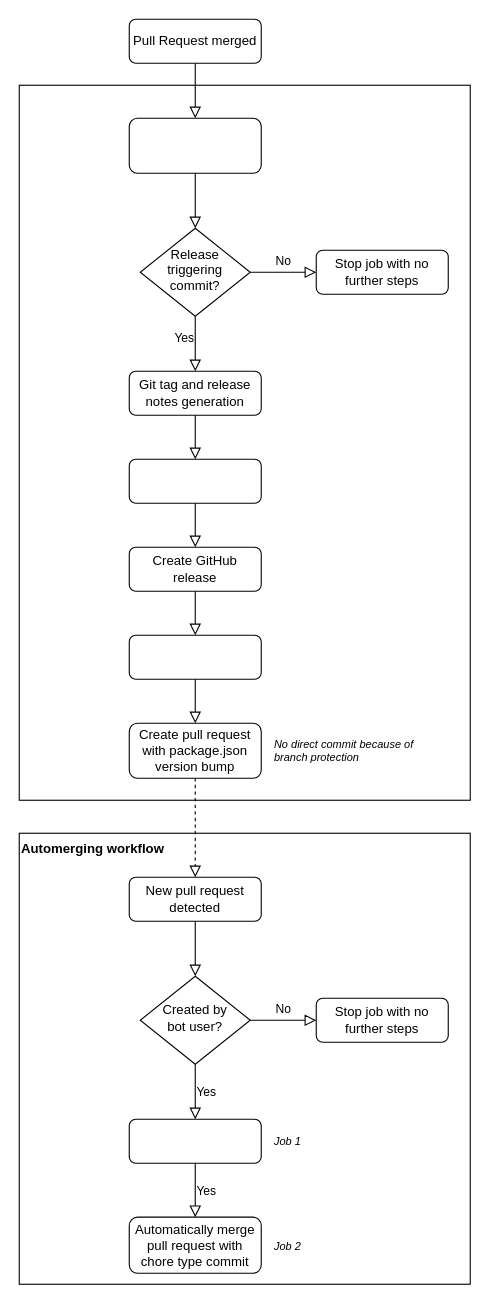
The diagram is 490 pixels wide and 1304 high, and some of its shapes have lost their labels. The box of each missing label's shape, as (x1, y1, x2, y2) in pixels:
Automatically approve pull request: (128, 1118, 261, 1163)
Commit analytics with Conventional Commits spec: (128, 117, 261, 173)
package.json bump and NPM release: (128, 458, 261, 503)
Publish Docker image: (128, 634, 261, 679)
Release workflow: (18, 84, 470, 800)
